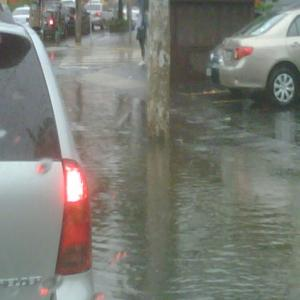Vehicle-registration-plate: (207, 69, 212, 78)
